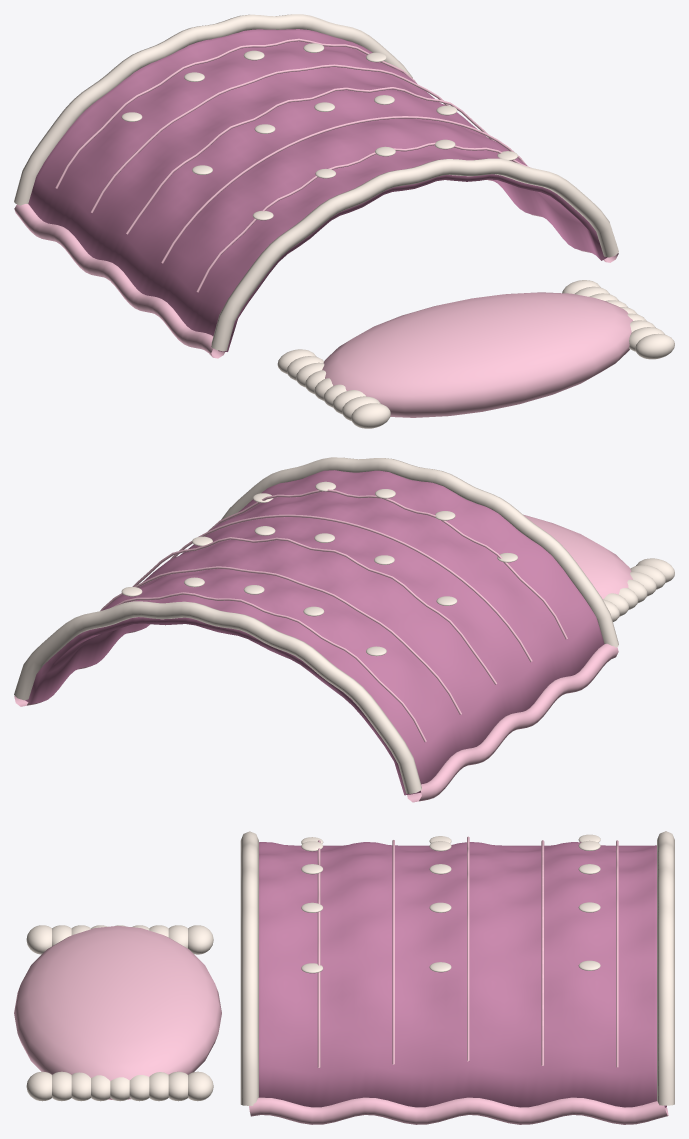
File: komi-blanket.glb
The picture shows the model from 3 angles, top to bottom: view 1: azimuth 30°, elevation 25°; view 2: azimuth 150°, elevation 25°; view 3: azimuth 270°, elevation 25°; orthographic projection. The views are drawn at different scales.
Parts seen in each view (by area): view 1: Soft quilt draped over resting body, Soft sleeping pillow, Cream piped duvet edge.001, Cream piped duvet edge, Soft pink side piping, Quilt stitched channel.002, Quilt stitched channel.001, Quilt stitched channel.003, Quilt stitched channel, Quilt stitched channel.004, Pillow ruffle.008, Pillow ruffle.017; view 2: Soft quilt draped over resting body, Cream piped duvet edge, Cream piped duvet edge.001, Soft pink side piping, Soft sleeping pillow, Quilt stitched channel.002, Quilt stitched channel.003, Quilt stitched channel.001, Quilt stitched channel.004, Quilt stitched channel; view 3: Soft quilt draped over resting body, Soft sleeping pillow, Soft pink side piping.001, Cream piped duvet edge.001, Cream piped duvet edge, Quilt stitched channel.001, Quilt stitched channel.004, Quilt stitched channel, Quilt stitched channel.002, Quilt stitched channel.003, Pillow ruffle.009, Pillow ruffle.017 (+8 smaller).
Boxes of the visible parts, box(x1,y1,x2,y2) form: Soft quilt draped over resting body: box(28, 29, 607, 351); Soft sleeping pillow: box(322, 292, 632, 417); Cream piped duvet edge.001: box(211, 158, 618, 351); Cream piped duvet edge: box(14, 14, 412, 205); Soft pink side piping: box(14, 204, 224, 358); Quilt stitched channel.002: box(126, 87, 494, 234); Quilt stitched channel.001: box(90, 64, 449, 213); Quilt stitched channel.003: box(161, 116, 527, 263); Quilt stitched channel: box(55, 38, 416, 188); Quilt stitched channel.004: box(196, 142, 529, 292); Pillow ruffle.008: box(351, 403, 390, 428); Pillow ruffle.017: box(635, 333, 674, 359); Soft quilt draped over resting body: box(25, 470, 604, 795); Cream piped duvet edge: box(14, 601, 421, 793); Cream piped duvet edge.001: box(221, 457, 618, 647); Soft pink side piping: box(407, 643, 618, 802); Soft sleeping pillow: box(523, 514, 632, 598); Quilt stitched channel.002: box(132, 537, 497, 684); Quilt stitched channel.003: box(170, 514, 532, 662); Quilt stitched channel.001: box(100, 566, 461, 714); Quilt stitched channel.004: box(208, 489, 567, 639); Quilt stitched channel: box(112, 592, 426, 741); Soft quilt draped over resting body: box(259, 842, 666, 1107); Soft sleeping pillow: box(14, 926, 221, 1099); Soft pink side piping.001: box(249, 1097, 668, 1124); Cream piped duvet edge.001: box(240, 831, 258, 1105); Cream piped duvet edge: box(657, 831, 674, 1105); Quilt stitched channel.001: box(541, 840, 544, 1065); Quilt stitched channel.004: box(317, 840, 320, 1067); Quilt stitched channel: box(616, 840, 618, 1067); Quilt stitched channel.002: box(467, 836, 469, 1061); Quilt stitched channel.003: box(392, 840, 394, 1064); Pillow ruffle.009: box(188, 1071, 213, 1101); Pillow ruffle.017: box(26, 1071, 51, 1101).
Size of the model in its own units: 1.43 by 0.6028 by 1.91.
